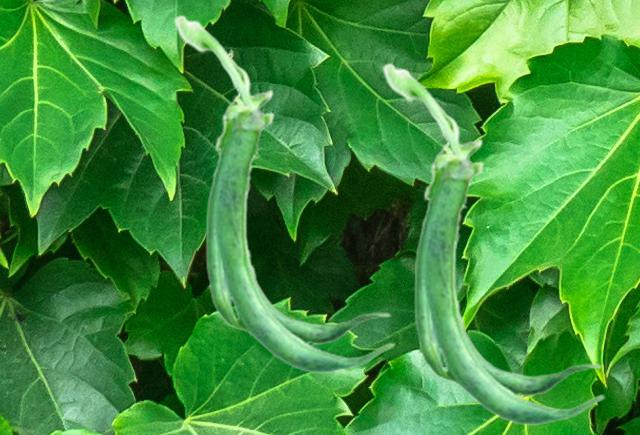french_bean: (381, 62, 604, 425), (173, 14, 393, 373)
